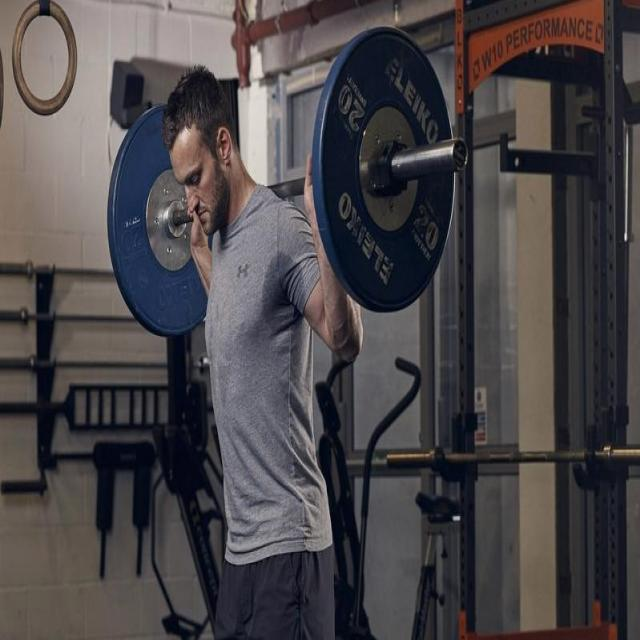adult: (162, 63, 364, 640)
